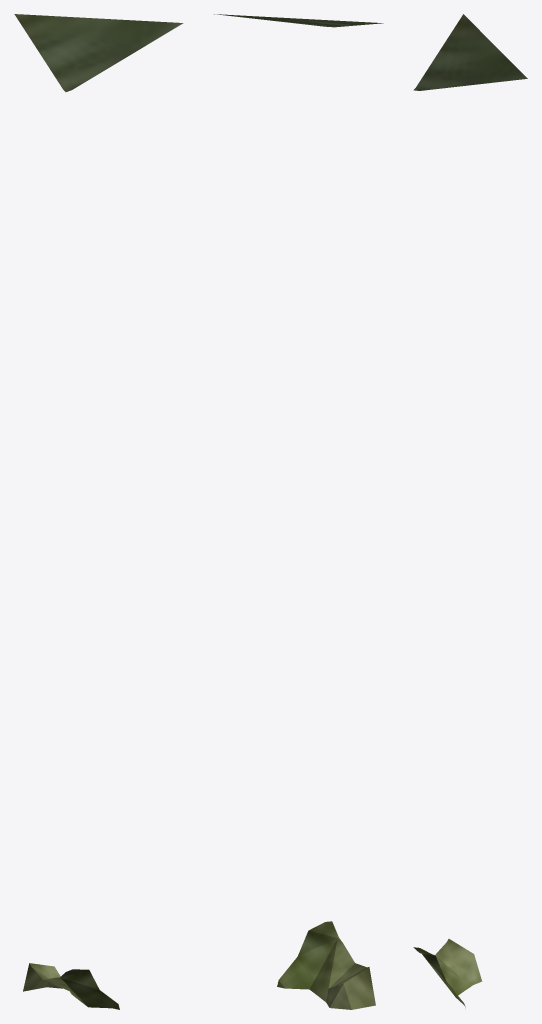
3 views of the same model, side by side, from view 1: azimuth 30°, elevation 25°; view 2: azimuth 210°, elevation 25°; view 3: azimuth 330°, elevation 25° (orthographic). The views are drawn at different scales.
Size of the model in its own units: 0.3743 by 2.95 by 0.2843.
1 material, 1 textured.
